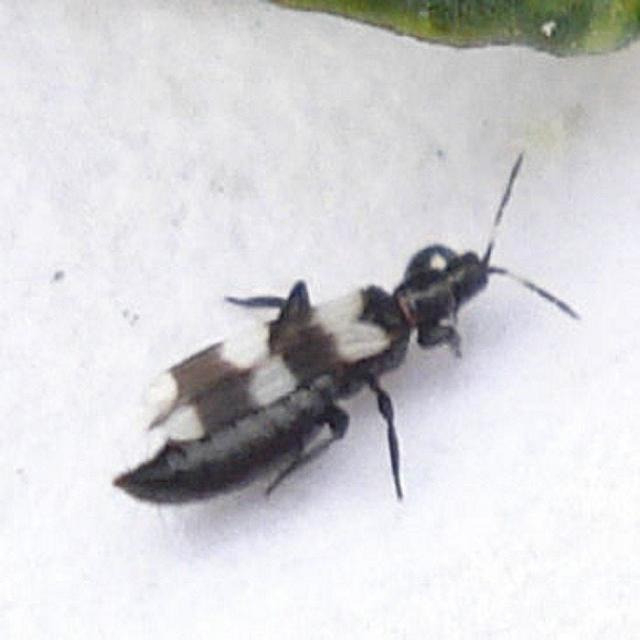Thrip-Adult-: (112, 144, 588, 526)
